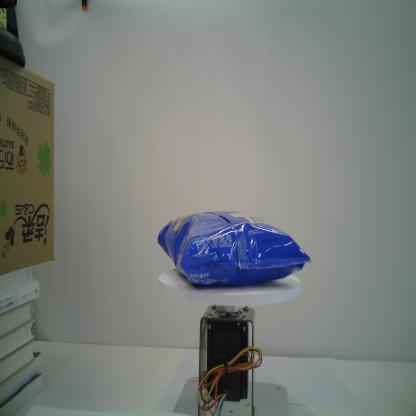Puffed Food: (156, 209, 316, 290)
